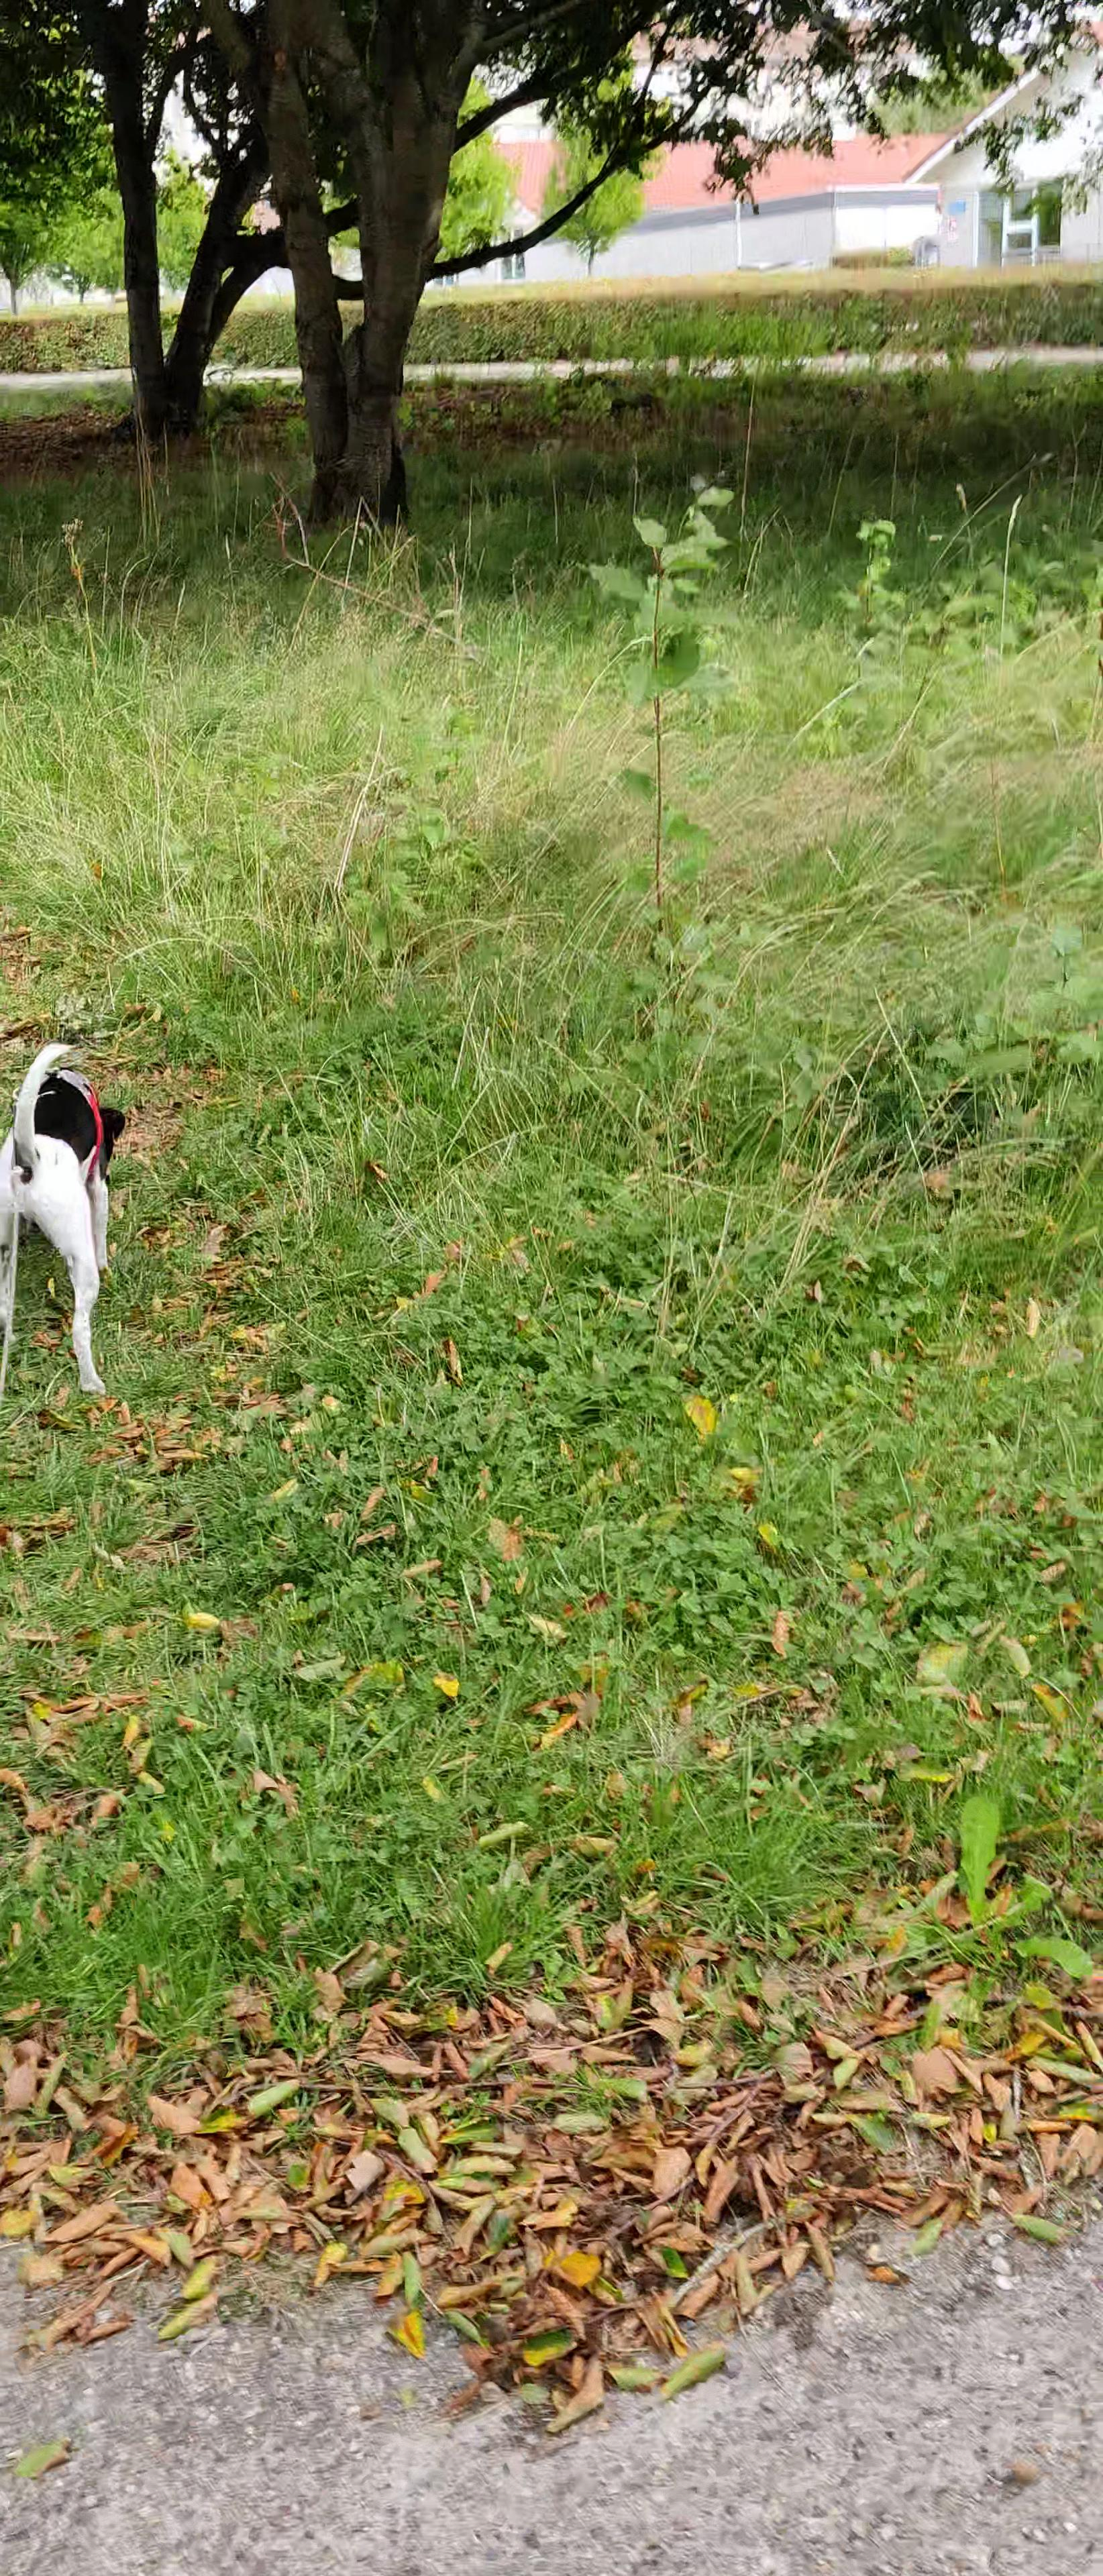Dog: (0, 1014, 146, 1428)
